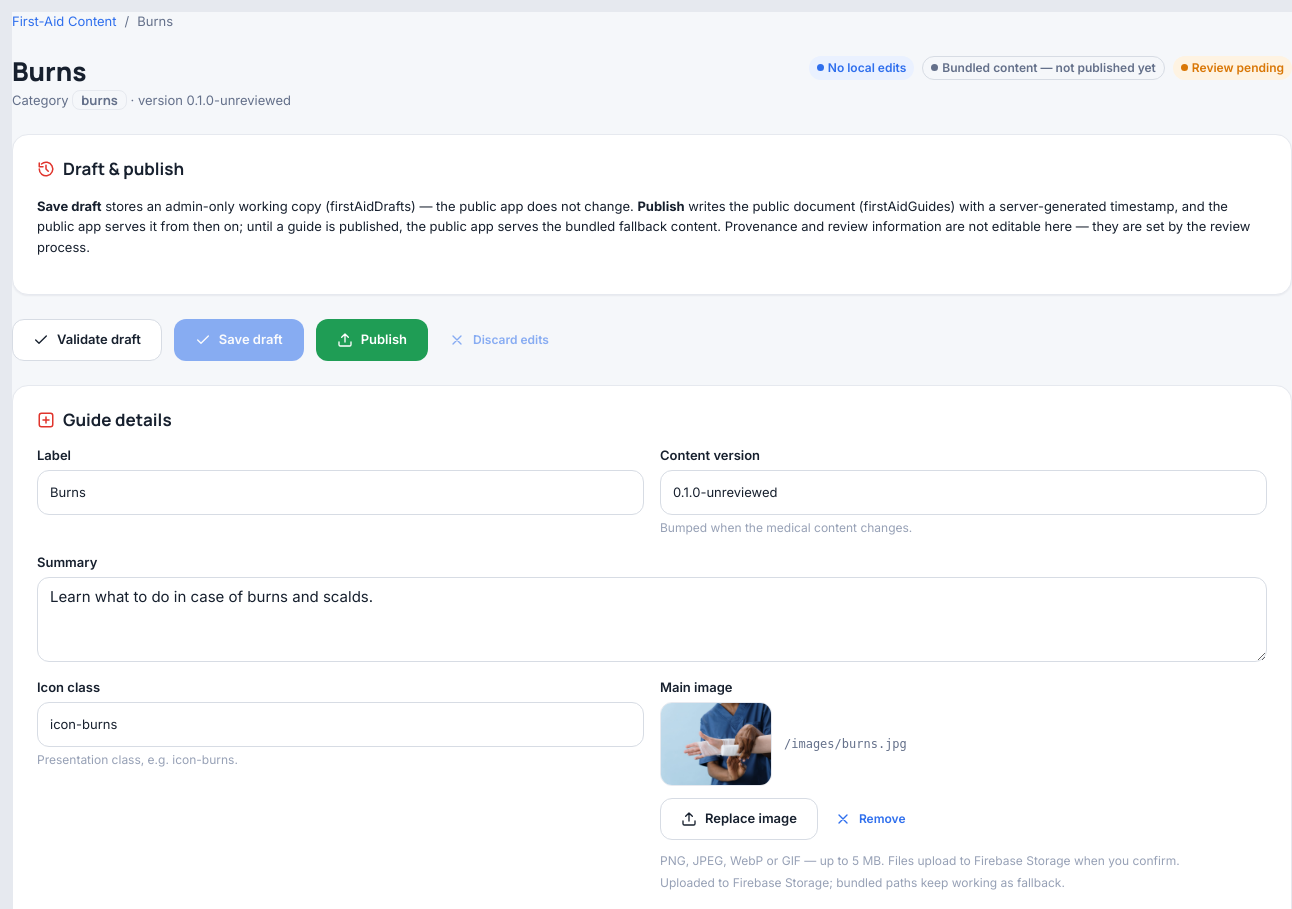
Test: AdminGuideEditorPage — editor › saves a draft through the service and reports the saved state
expect the heading "Burns" is shown: met, box left=12, top=52, right=87, bottom=88
Replace the text in the field labelled "Label" with "Burns & scalds" at (340, 493), box left=37, top=470, right=644, bottom=515
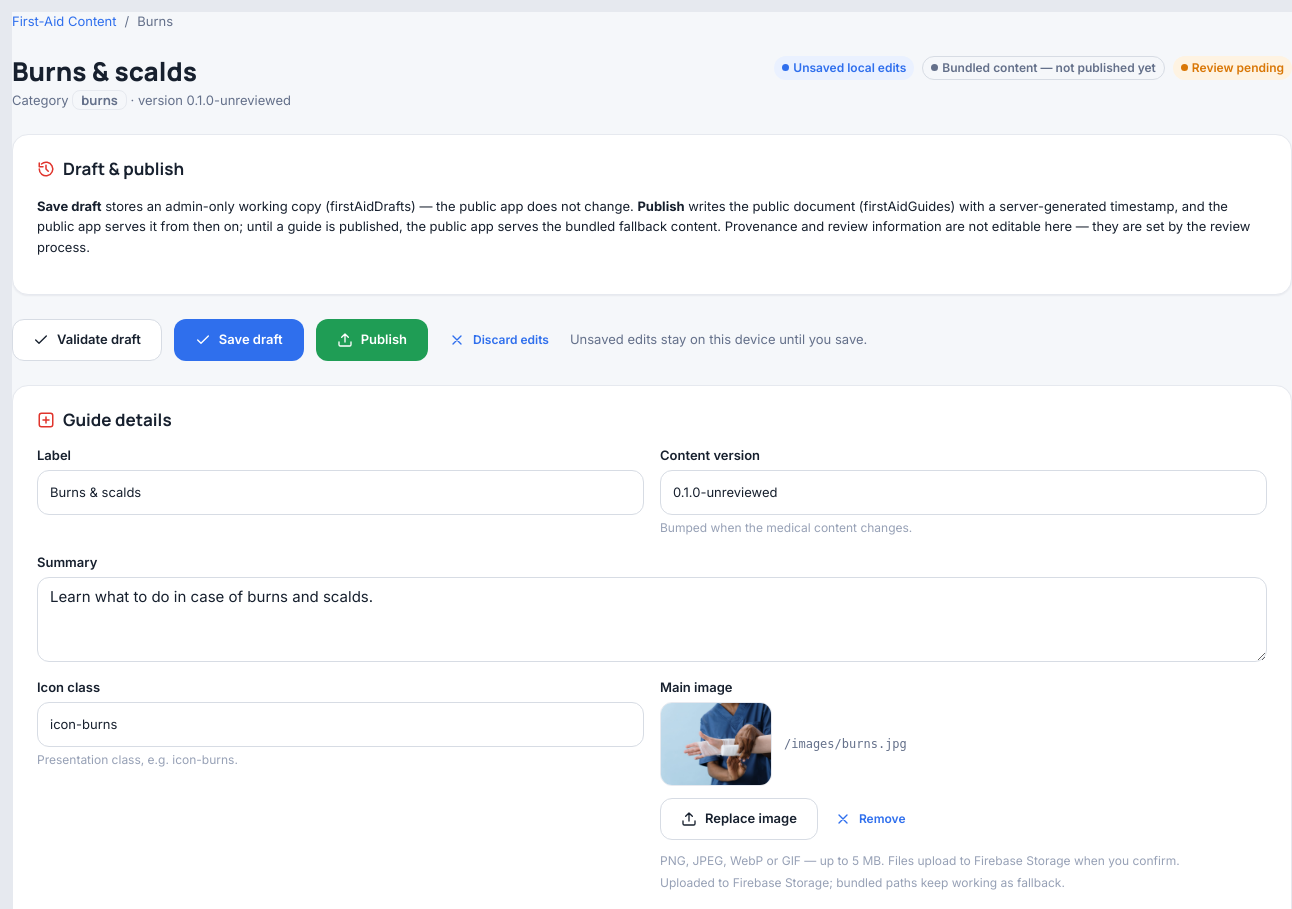
Click the button "Save draft" at (239, 340), box left=174, top=319, right=304, bottom=361
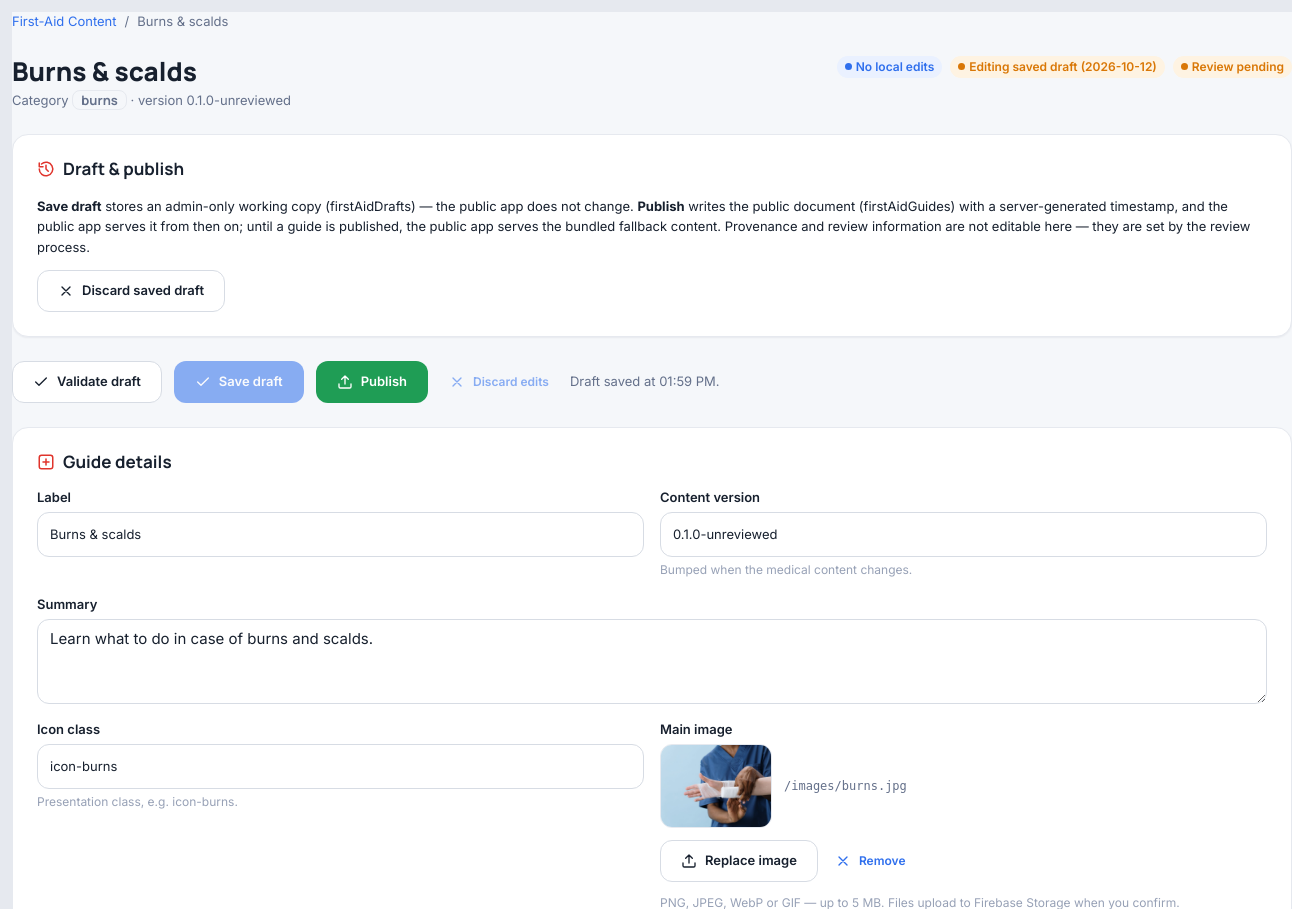
expect the text "Draft saved at 01:59 PM." is shown: met, box left=570, top=372, right=720, bottom=392
expect the text "Burns & scalds" is shown: met, box left=137, top=12, right=228, bottom=32
expect the text "No local edits" is shown: met, box left=837, top=56, right=942, bottom=78
